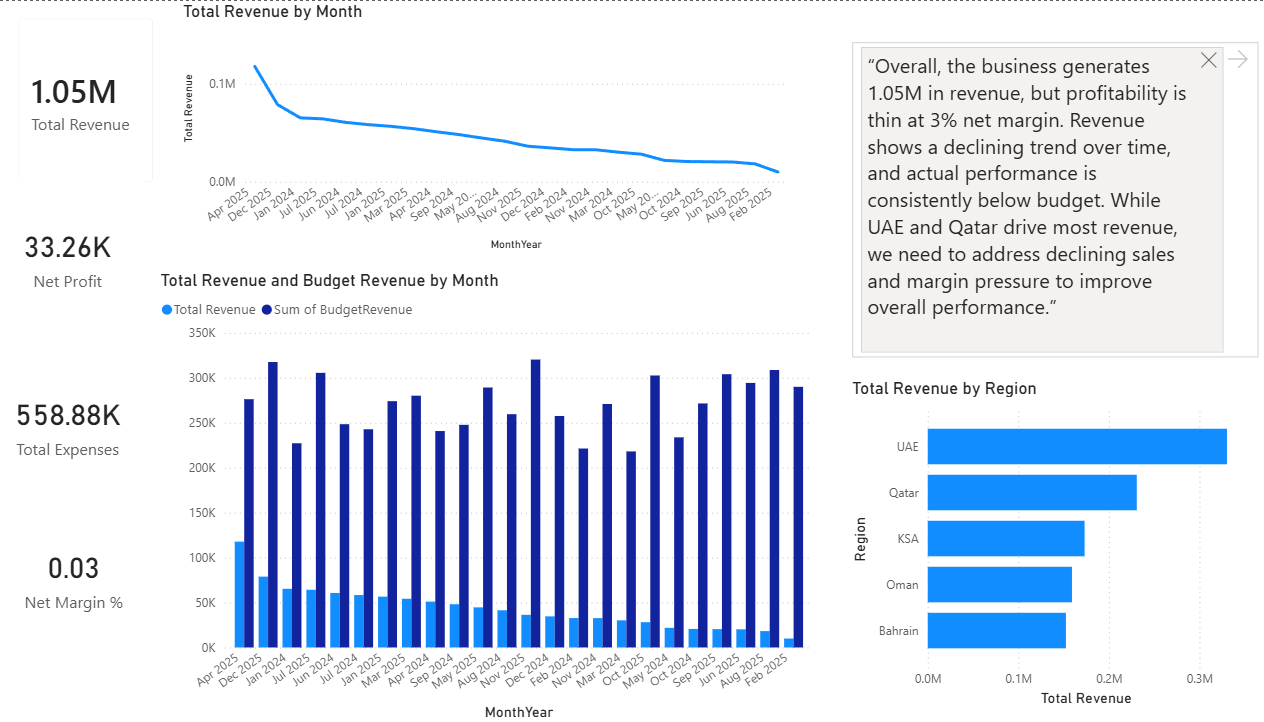

This screenshot's page, from the dashboard's own definition file:
{"tool":"powerbi","page":{"name":"EXECUTIVE SUMMARY","canvas":[1280,720],"ordinal":0},"visuals":[{"type":"cardVisual","title":"TOTAL REVENUE","fields":{"Data":["Budget.Total Revenue"]},"box":[9.6,0,168.8,197.6],"z":0},{"type":"card","fields":{"Values":["Budget.Total Expenses"]},"box":[0,345.2,149.9,151.4],"z":1000},{"type":"card","fields":{"Values":["Budget.Net Profit"]},"box":[0,177.2,149.9,151.4],"z":2000},{"type":"card","fields":{"Values":["Budget.Net Margin %"]},"box":[0,498.2,162,148.4],"z":3000},{"type":"lineChart","title":"Total Revenue by Month","fields":{"Category":["Calendar.MonthYear"],"Y":["Budget.Total Revenue"]},"box":[185.3,0,610.7,252.5],"z":4000},{"type":"clusteredColumnChart","title":"Total Revenue and Budget Revenue by Month","fields":{"Category":["Calendar.MonthYear"],"Y":["Budget.Total Revenue","Sum(Budget.BudgetRevenue)"]},"box":[162,266.5,658.7,452.7],"z":5000},{"type":"barChart","fields":{"Category":["Sales.Region"],"Y":["Budget.Total Revenue"]},"box":[850.8,374.6,414.4,330.7],"z":5001},{"type":"textSlicer","box":[850.8,35.7,414.4,323.9],"z":5002}]}

Visuals, with their boxes in screenshot pixels (x1, y1, x2, y2), scaled from the page's 1280x720 canvas onto the 1264x722 screenshot:
"TOTAL REVENUE" cardVisual: <region>9, 0, 176, 198</region>
card - Budget.Total Expenses: <region>0, 346, 148, 498</region>
card - Budget.Net Profit: <region>0, 178, 148, 330</region>
card - Budget.Net Margin %: <region>0, 500, 160, 648</region>
"Total Revenue by Month" lineChart: <region>183, 0, 786, 253</region>
"Total Revenue and Budget Revenue by Month" clusteredColumnChart: <region>160, 267, 810, 721</region>
barChart - Sales.Region x Budget.Total Revenue: <region>840, 376, 1249, 707</region>
textSlicer: <region>840, 36, 1249, 361</region>
